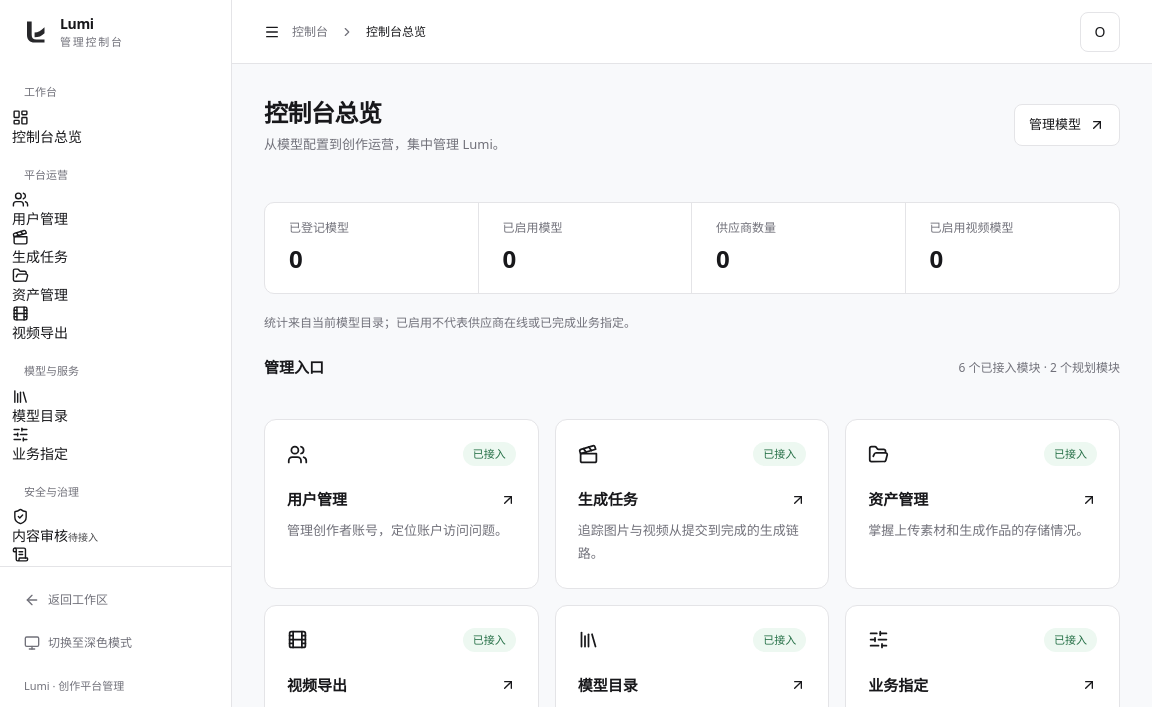
Test case: model admin page › shows real empty catalog counts and navigates to the planned moderation module
Expected: the heading "控制台总览" is shown, top-left (264, 96), bottom-right (382, 129)
Expected: the text "0" is shown 4 times, top-left (289, 242), bottom-right (303, 275); top-left (502, 242), bottom-right (516, 275); top-left (716, 242), bottom-right (730, 275); top-left (930, 242), bottom-right (943, 275)
Click the link "内容审核": click(12, 508) top-left (12, 508), bottom-right (98, 545)
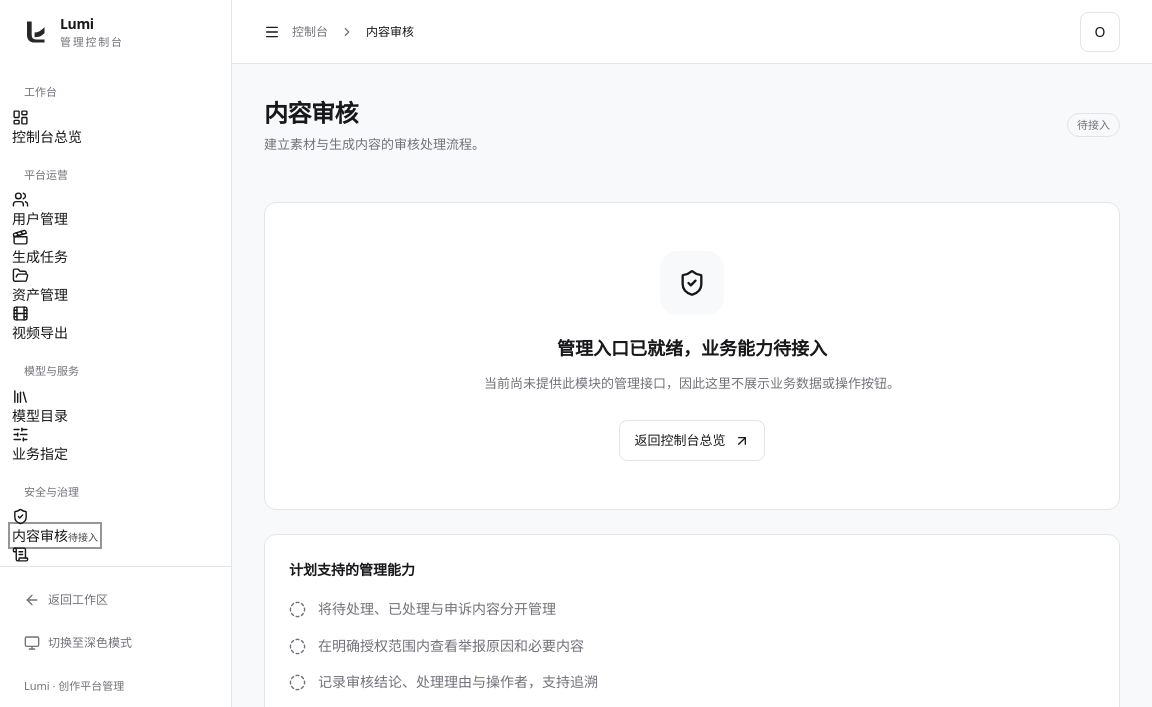
Expected: the heading "内容审核" is shown, top-left (264, 96), bottom-right (358, 129)
Expected: the heading "管理入口已就绪，业务能力待接入" is shown, top-left (557, 336), bottom-right (827, 360)
